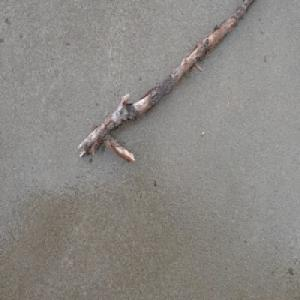Wood: (76, 0, 254, 164)
